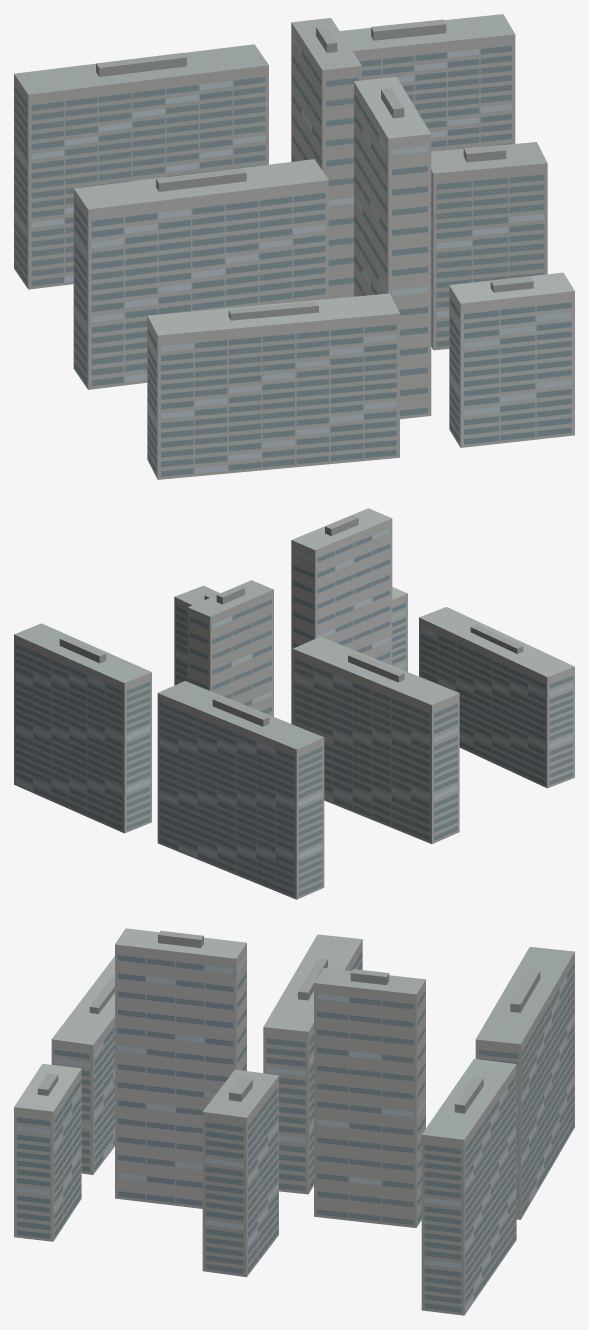
The model's file is apt-a13703019.glb.
3 renders of one model, top to bottom at view 1: azimuth 30°, elevation 25°; view 2: azimuth 150°, elevation 25°; view 3: azimuth 270°, elevation 25°, orthographic. The views are drawn at different scales.
Parts seen in each view (by area): view 1: apt-a13703019; view 2: apt-a13703019; view 3: apt-a13703019.
Part boxes in pixels (left/top/right/bottom): apt-a13703019: left=14, top=14, right=574, bottom=479; apt-a13703019: left=14, top=508, right=574, bottom=899; apt-a13703019: left=14, top=928, right=574, bottom=1315.
Bounding box in the file's own units: 149 × 77.01 × 149.
